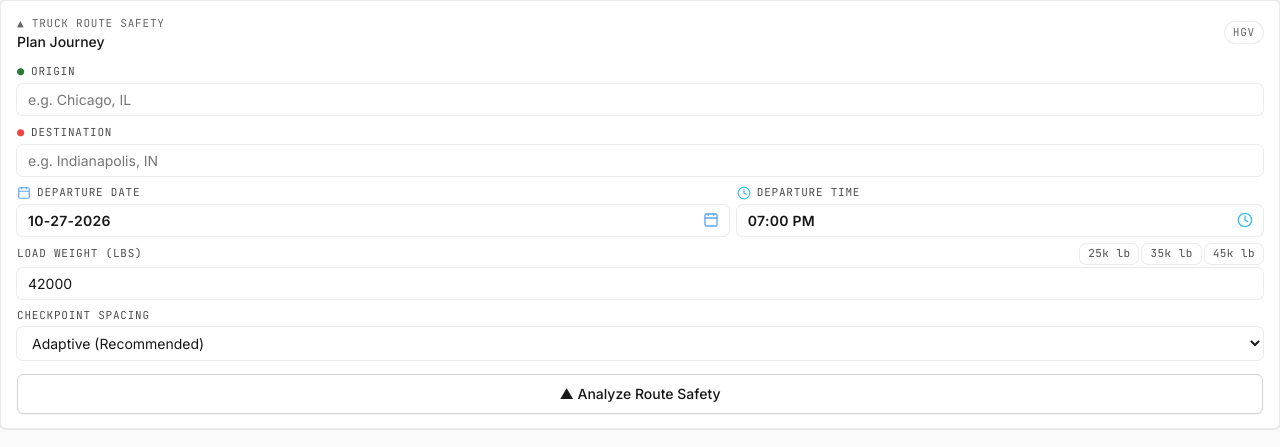
Test: TripForm Component › updates load weight when quick preset button is clicked
Click the button "45k lb".
click(1234, 254)  # box [1205,244,1263,264]
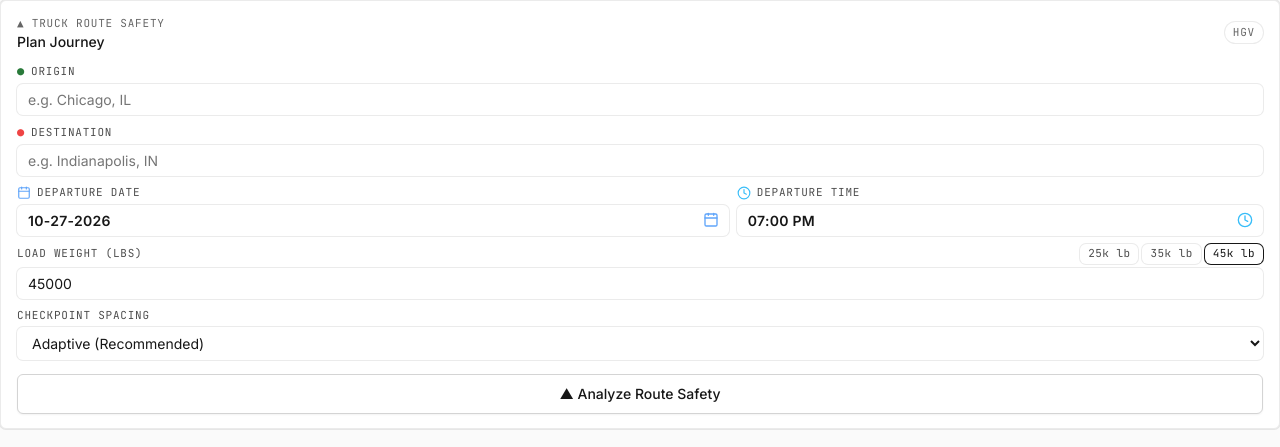
Now the number field labelled "Load Weight (lbs)" holds "45000", box [17,268,1263,298]
